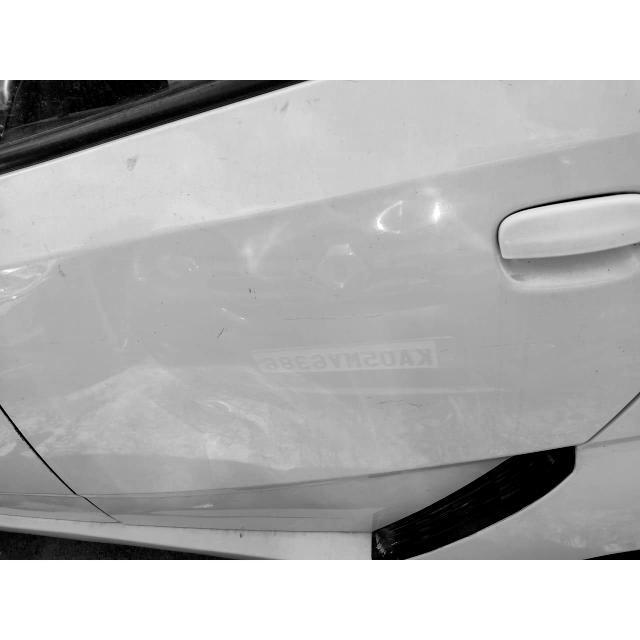bonnet-dent: (35, 91, 590, 490)
